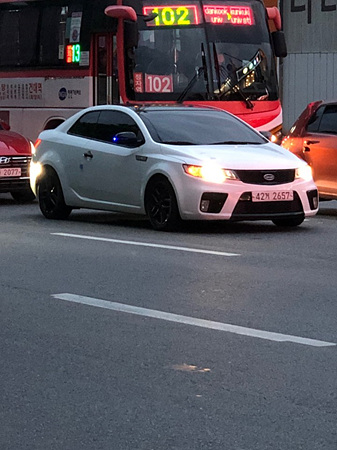bnum: (145, 74, 172, 93)
